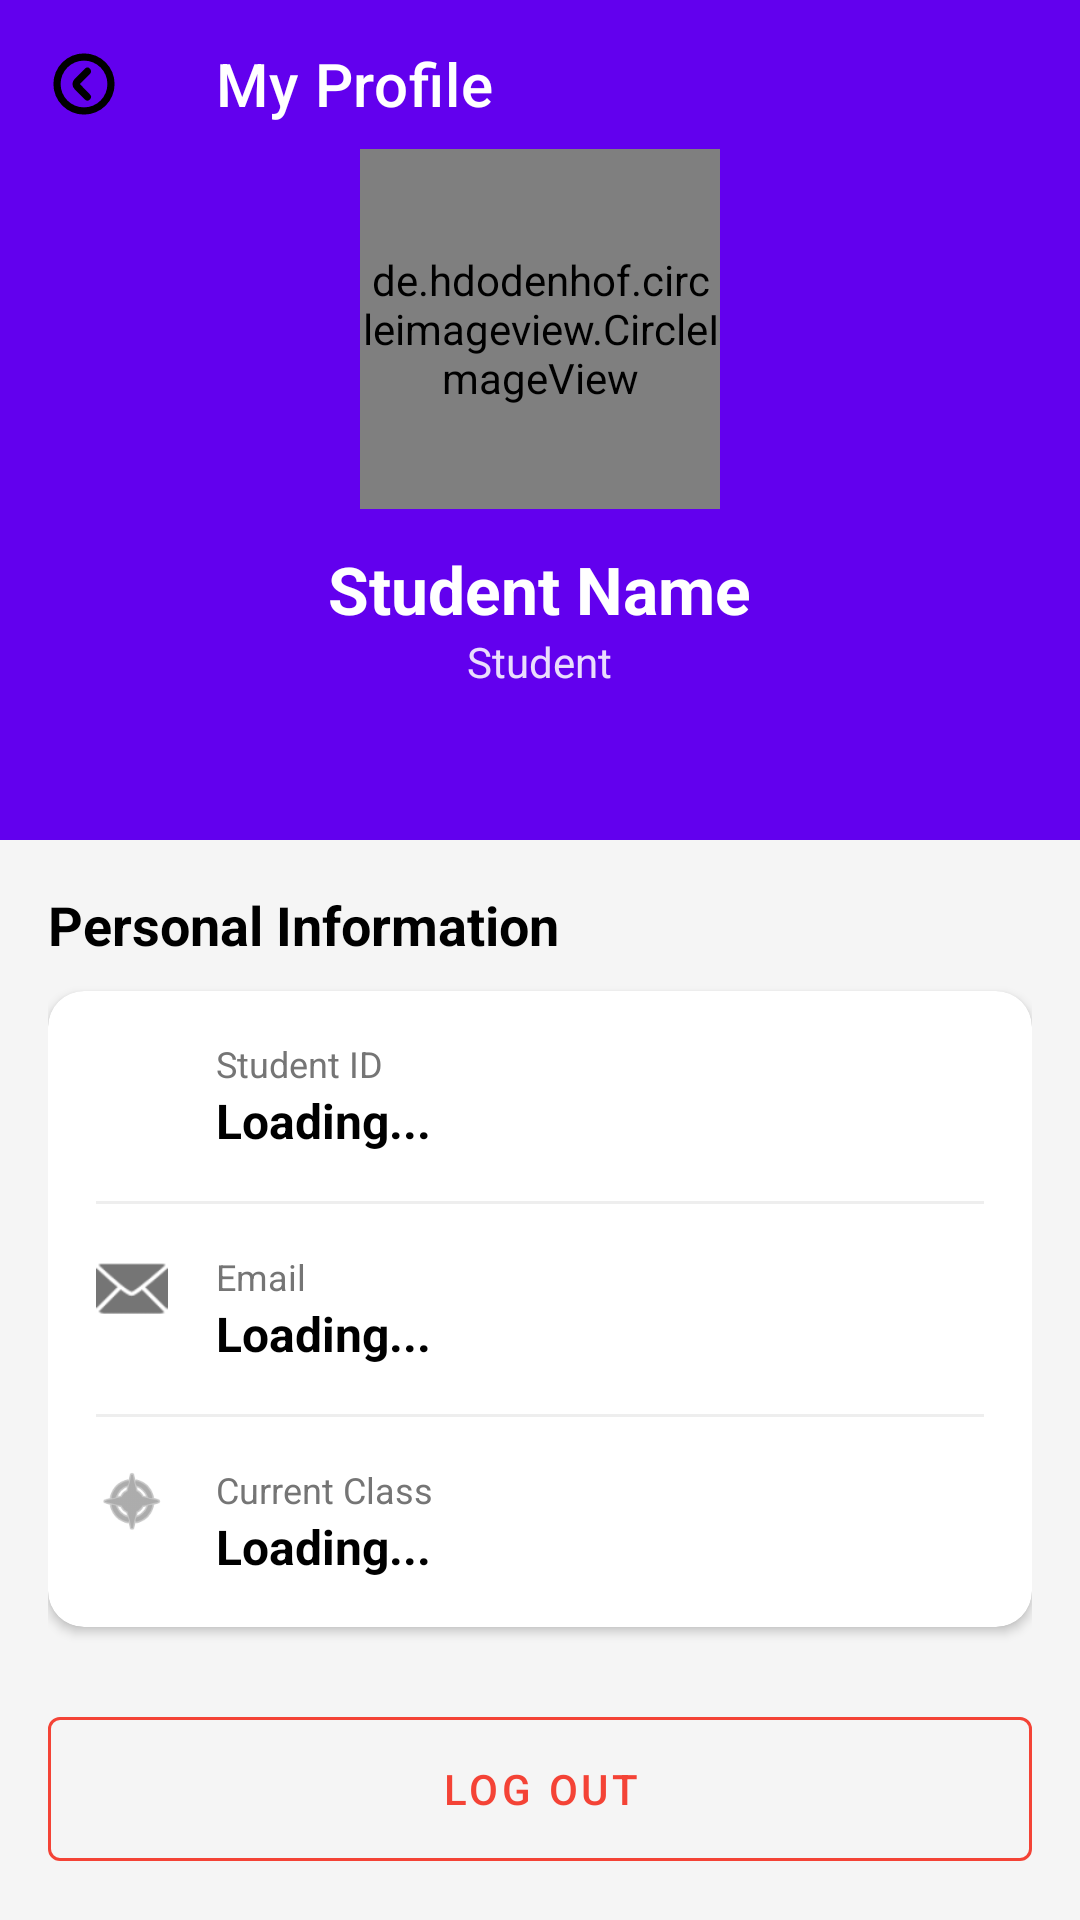

Icon bounding boxes for this 1080w x 1920h phone screenshot, format (x1, y1, x2, y2):
compass: (103, 1473, 160, 1530)
